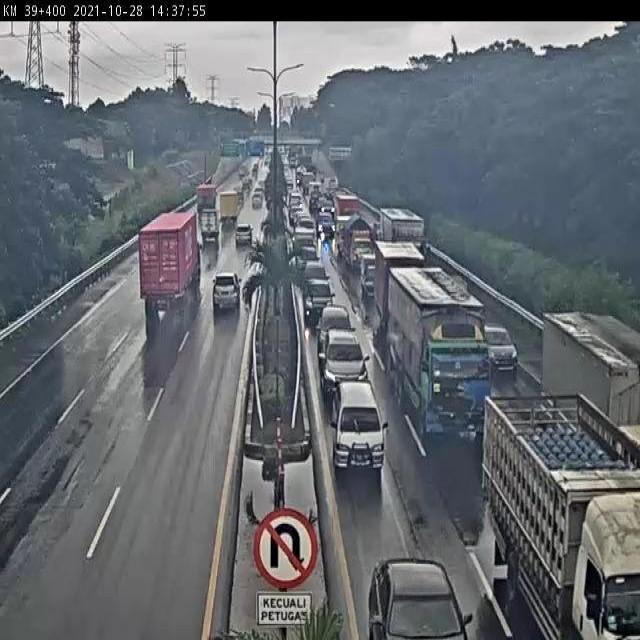car: (482, 316, 521, 373), (200, 208, 222, 240)
truck-l-: (483, 390, 640, 640), (390, 267, 496, 445)
truck-s-: (219, 191, 239, 229)
truck-xl-: (141, 215, 204, 316)
